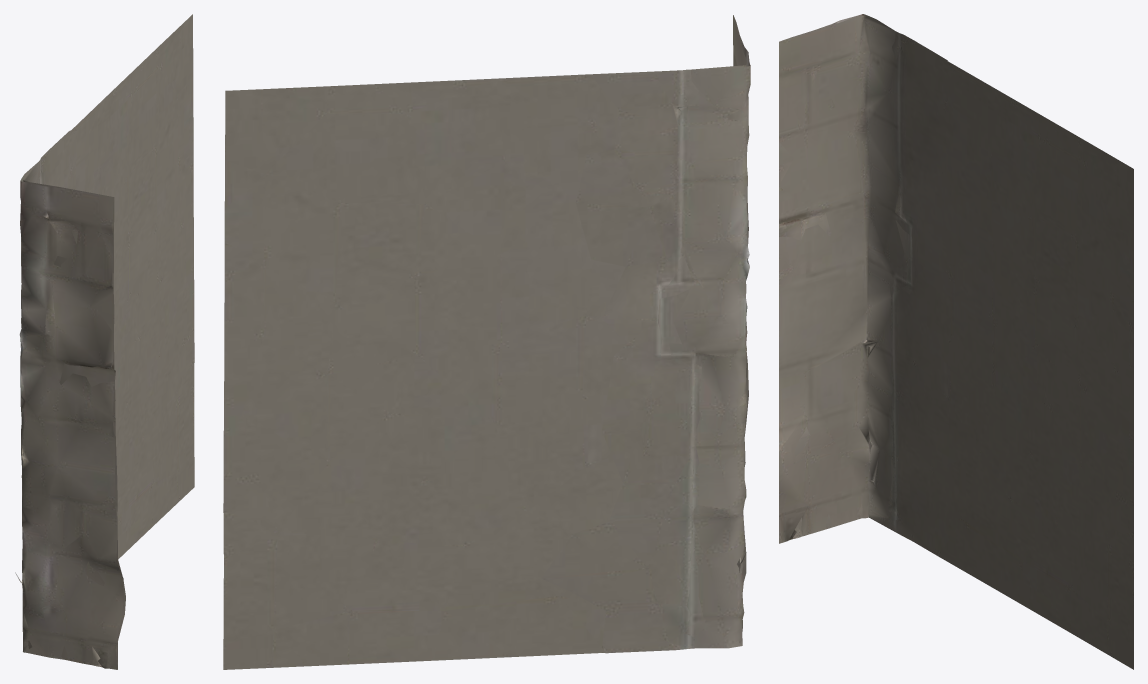
3 views of the same model, side by side, from view 1: azimuth 30°, elevation 25°; view 2: azimuth 150°, elevation 25°; view 3: azimuth 270°, elevation 25° (orthographic). The views are drawn at different scales.
Size of the model in its own units: 1.6 by 2.38 by 1.53.
Materials: 1 (1 with a texture image).
